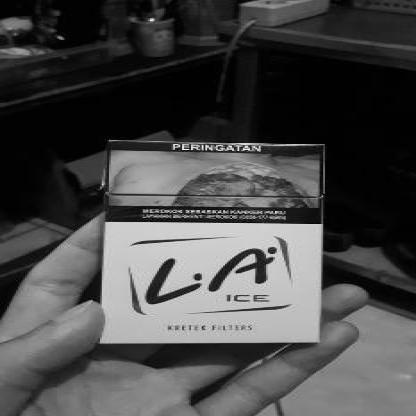objects: (101, 142, 324, 344)
